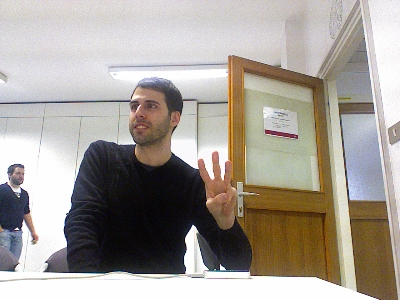三分: (196, 149, 238, 223)
